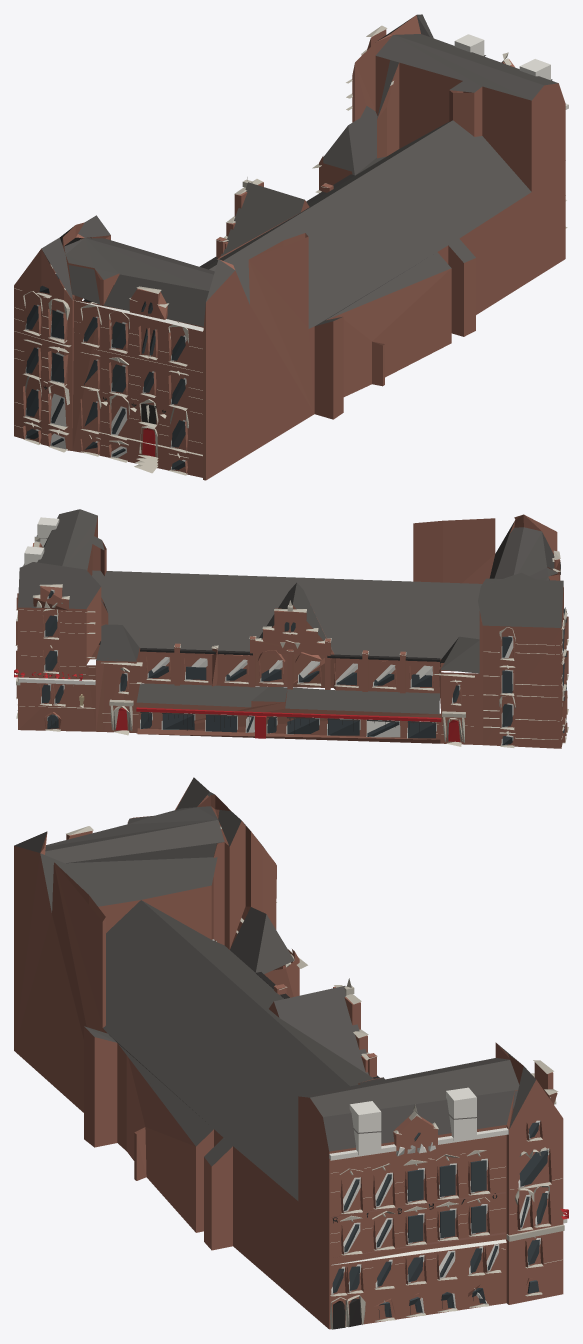
Rendered from krakeling-passeerdersstraat.lod1.glb.
3 views of the same model, one above another, from view 1: azimuth 30°, elevation 25°; view 2: azimuth 150°, elevation 25°; view 3: azimuth 270°, elevation 25° (orthographic). The views are drawn at different scales.
Visible parts, largest first — view 1: krakeling-passeerdersstraat; view 2: krakeling-passeerdersstraat; view 3: krakeling-passeerdersstraat.
Boxes of the visible parts, x1,y1,x2,y2 form: krakeling-passeerdersstraat: (14, 14, 568, 480); krakeling-passeerdersstraat: (14, 509, 568, 748); krakeling-passeerdersstraat: (14, 777, 568, 1329).
Bounding box in the file's own units: 55.89 × 18.18 × 38.97.
